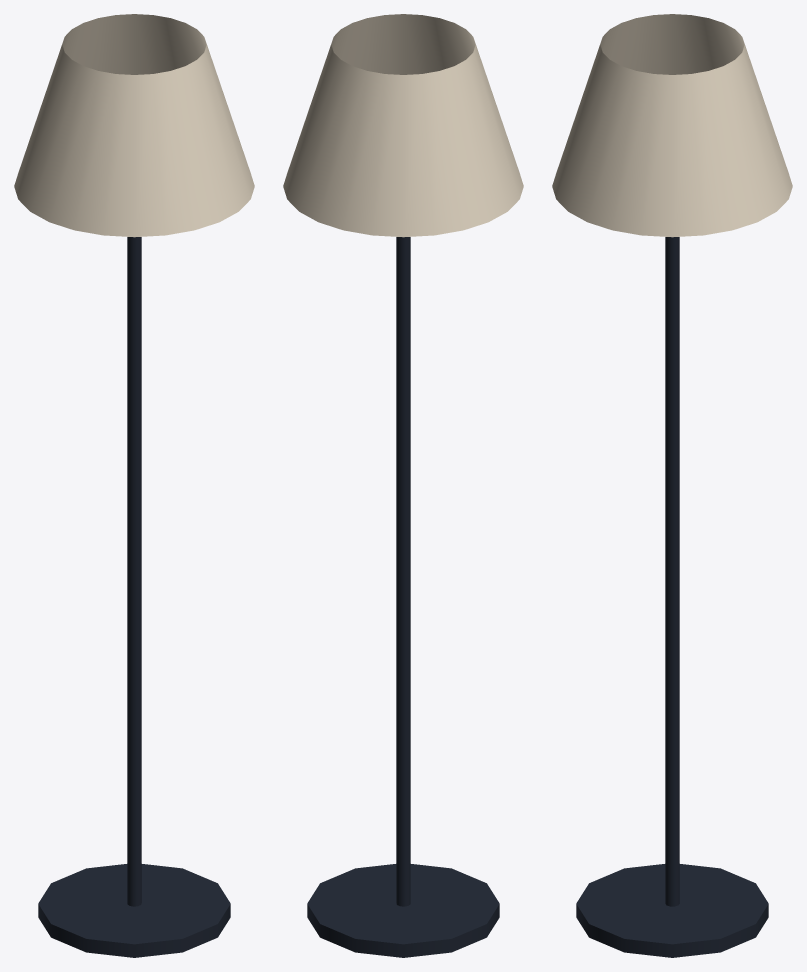
File: lamp.floor.cone.glb
The picture shows the model from 3 angles, left to right: view 1: azimuth 30°, elevation 25°; view 2: azimuth 150°, elevation 25°; view 3: azimuth 270°, elevation 25°; orthographic projection.
Visible parts, largest first — view 1: shade, frame; view 2: shade, frame; view 3: shade, frame.
Part boxes in pixels (x1,y1,x2,y2): shade: (14,14,254,237); frame: (38,237,230,957); shade: (283,14,523,237); frame: (307,237,499,957); shade: (552,14,792,237); frame: (576,237,768,957).
Bounding box in the file's own units: 0.4 × 1.6 × 0.4.
